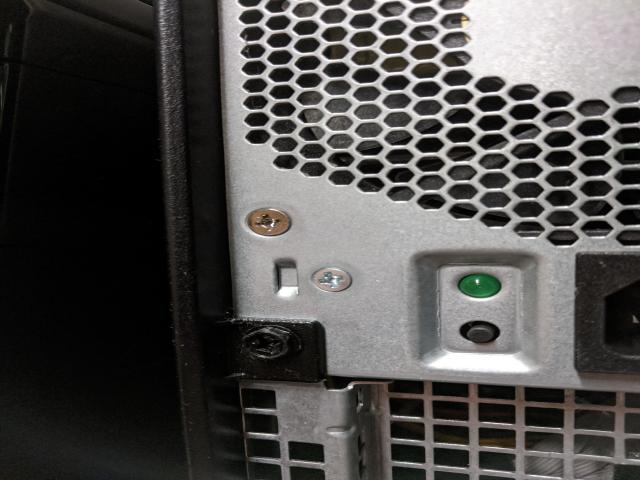CRS: (239, 326, 294, 359), (245, 208, 292, 236), (312, 267, 354, 294)
